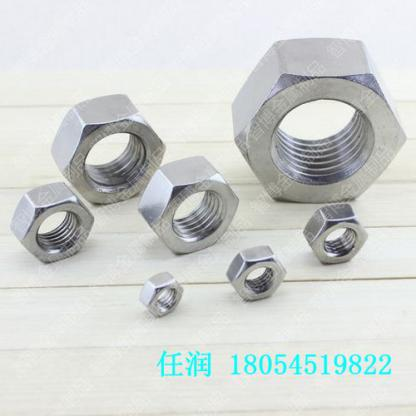FOD: (235, 32, 406, 203), (52, 84, 163, 207), (134, 156, 240, 257), (11, 182, 93, 267), (300, 204, 370, 269), (224, 245, 288, 304), (135, 271, 187, 320)
